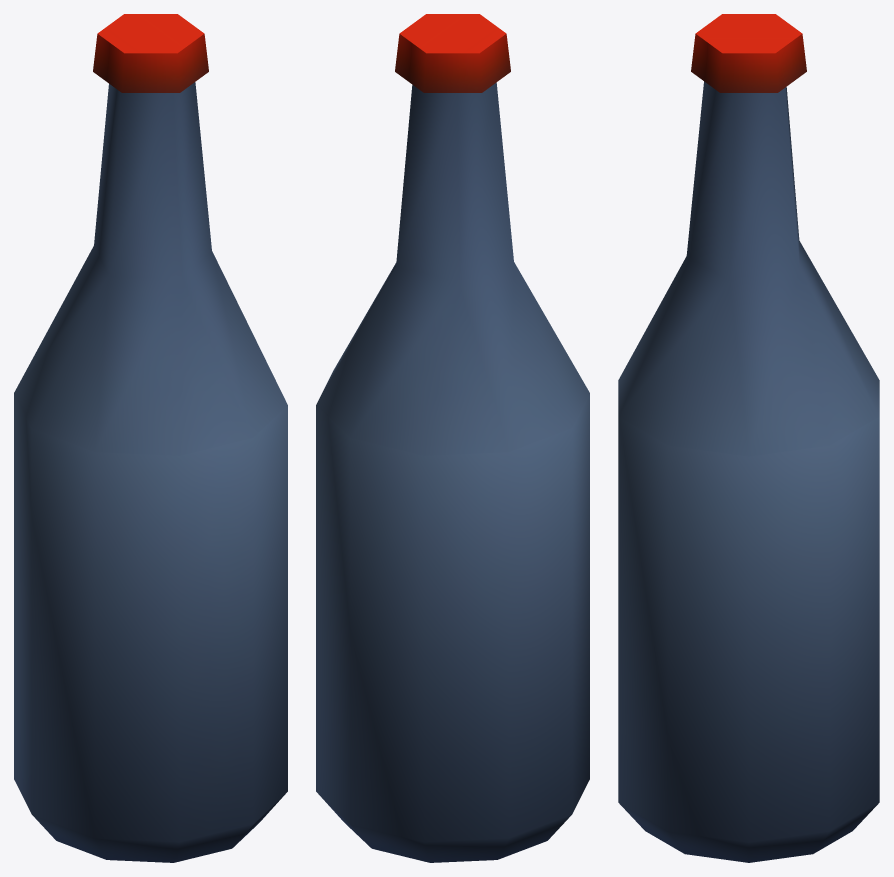
The model's file is Beer_Bottle_1C.fbx.
3 renders of one model, left to right at view 1: azimuth 30°, elevation 25°; view 2: azimuth 150°, elevation 25°; view 3: azimuth 270°, elevation 25°, orthographic.
Visible parts, largest first — view 1: Beer_Bottle_1C; view 2: Beer_Bottle_1C; view 3: Beer_Bottle_1C.
Part boxes in pixels (bbox=[...]): Beer_Bottle_1C: bbox=[14, 14, 287, 862]; Beer_Bottle_1C: bbox=[316, 14, 589, 862]; Beer_Bottle_1C: bbox=[618, 14, 879, 862].
Bounding box in the file's own units: 12.49 × 39.25 × 11.88.
